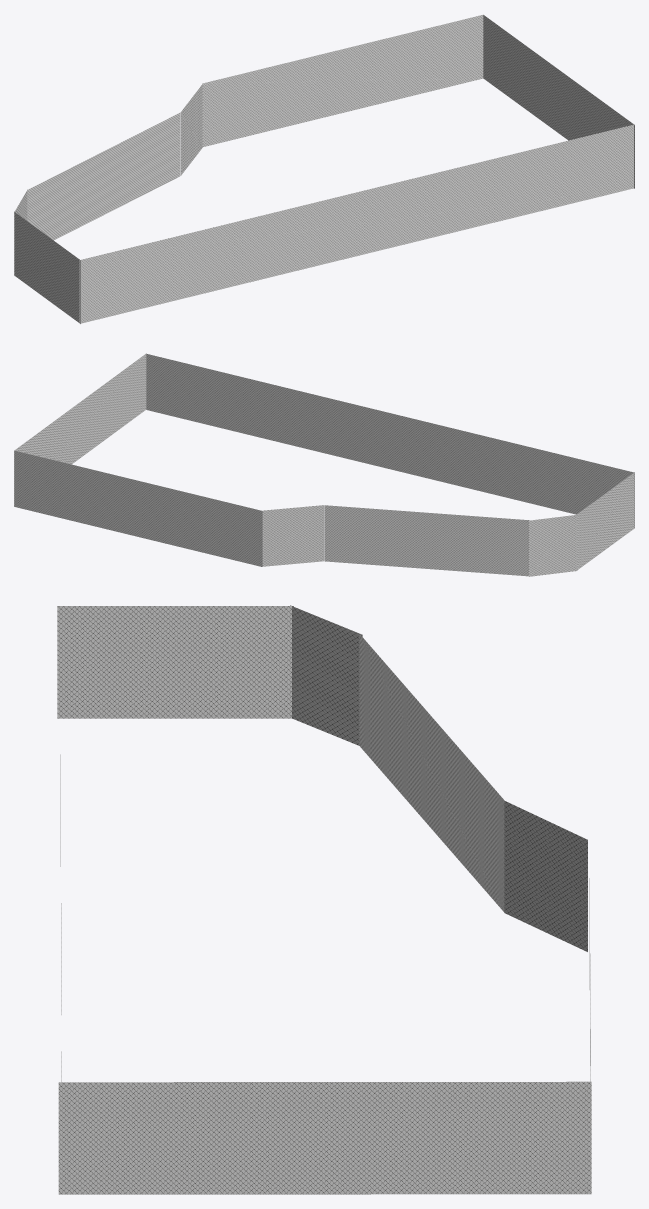
Rendered from malla.obj.
3 views of the same model, one above another, from view 1: azimuth 30°, elevation 25°; view 2: azimuth 150°, elevation 25°; view 3: azimuth 270°, elevation 25° (orthographic). The views are drawn at different scales.
Parts seen in each view (by area): view 1: malla_Plano.002; view 2: malla_Plano.002; view 3: malla_Plano.002.
Boxes of the visible parts, left/top/right/bottom form: malla_Plano.002: left=14, top=14, right=634, bottom=323; malla_Plano.002: left=14, top=353, right=634, bottom=576; malla_Plano.002: left=57, top=605, right=591, bottom=1194.
Size of the model in its own units: 332 by 36.55 by 157.
1 material, 1 textured.
